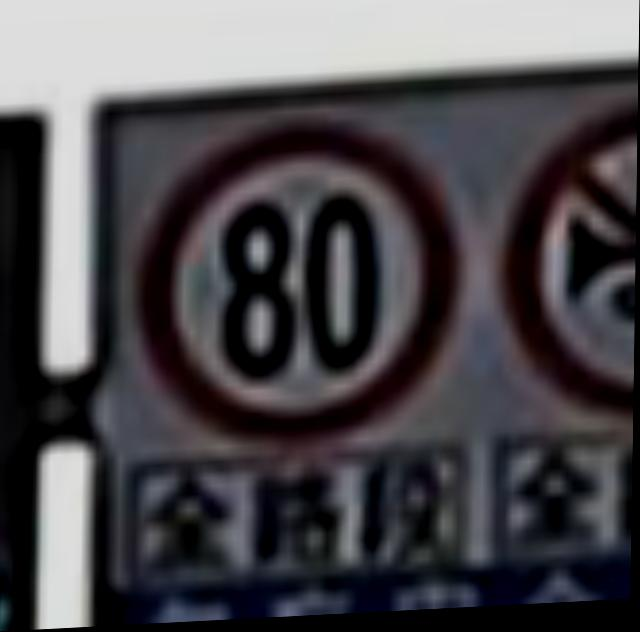limit80: (131, 110, 480, 441)
